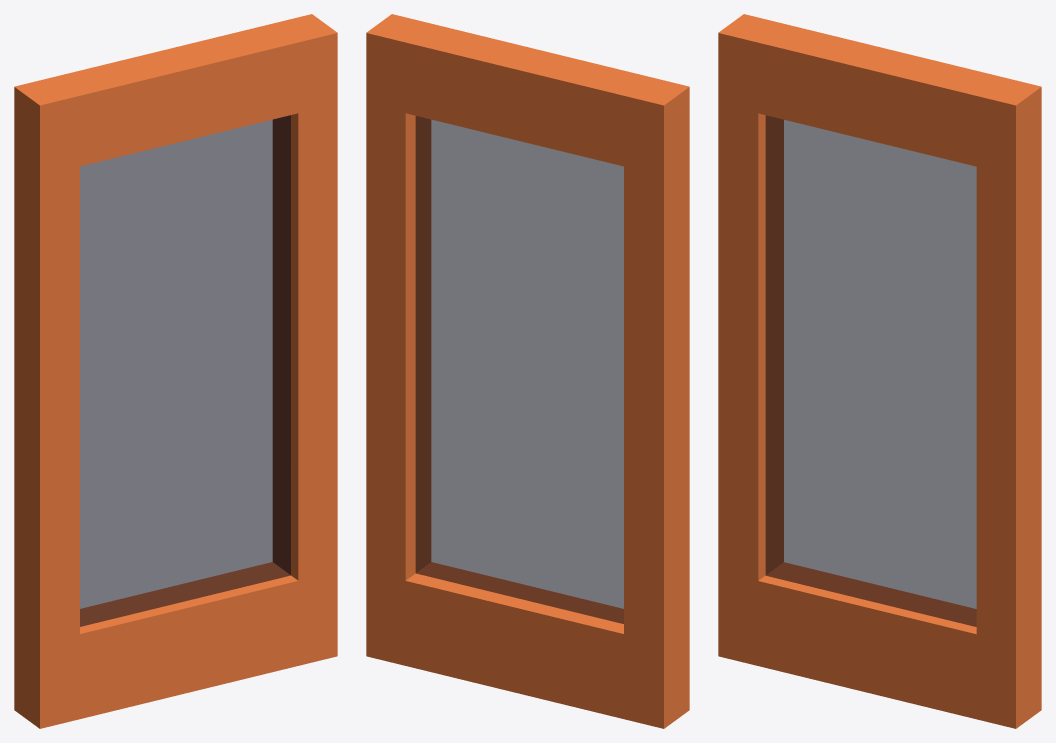
File: OrangeWindowLarge.glb
The picture shows the model from 3 angles, left to right: view 1: azimuth 30°, elevation 25°; view 2: azimuth 150°, elevation 25°; view 3: azimuth 330°, elevation 25°; orthographic projection.
Parts seen in each view (by area): view 1: wall_largeWindow_orange; view 2: wall_largeWindow_orange; view 3: wall_largeWindow_orange.
Boxes of the visible parts, x1,y1,x2,y2 form: wall_largeWindow_orange: [14, 14, 337, 728]; wall_largeWindow_orange: [366, 14, 689, 728]; wall_largeWindow_orange: [718, 14, 1041, 728].
Size of what is drawn, in the model's own units: 2 by 4 by 0.3.
Materials: 2 (2 with a texture image).
